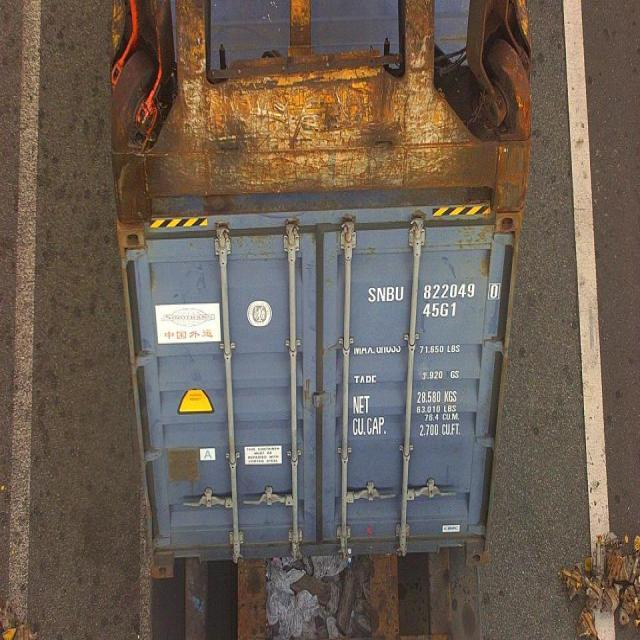ISO: (422, 302, 458, 318)
container_number: (368, 283, 496, 302)
